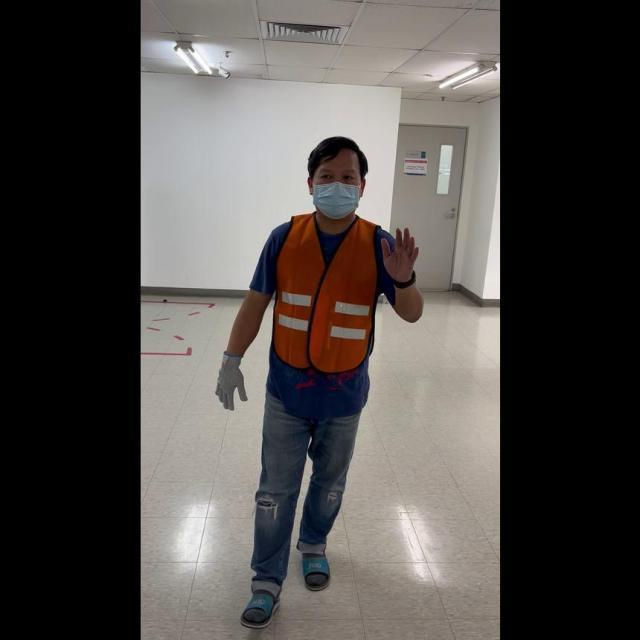bare_hand: (380, 221, 419, 284)
gloved_hand: (213, 349, 249, 408)
